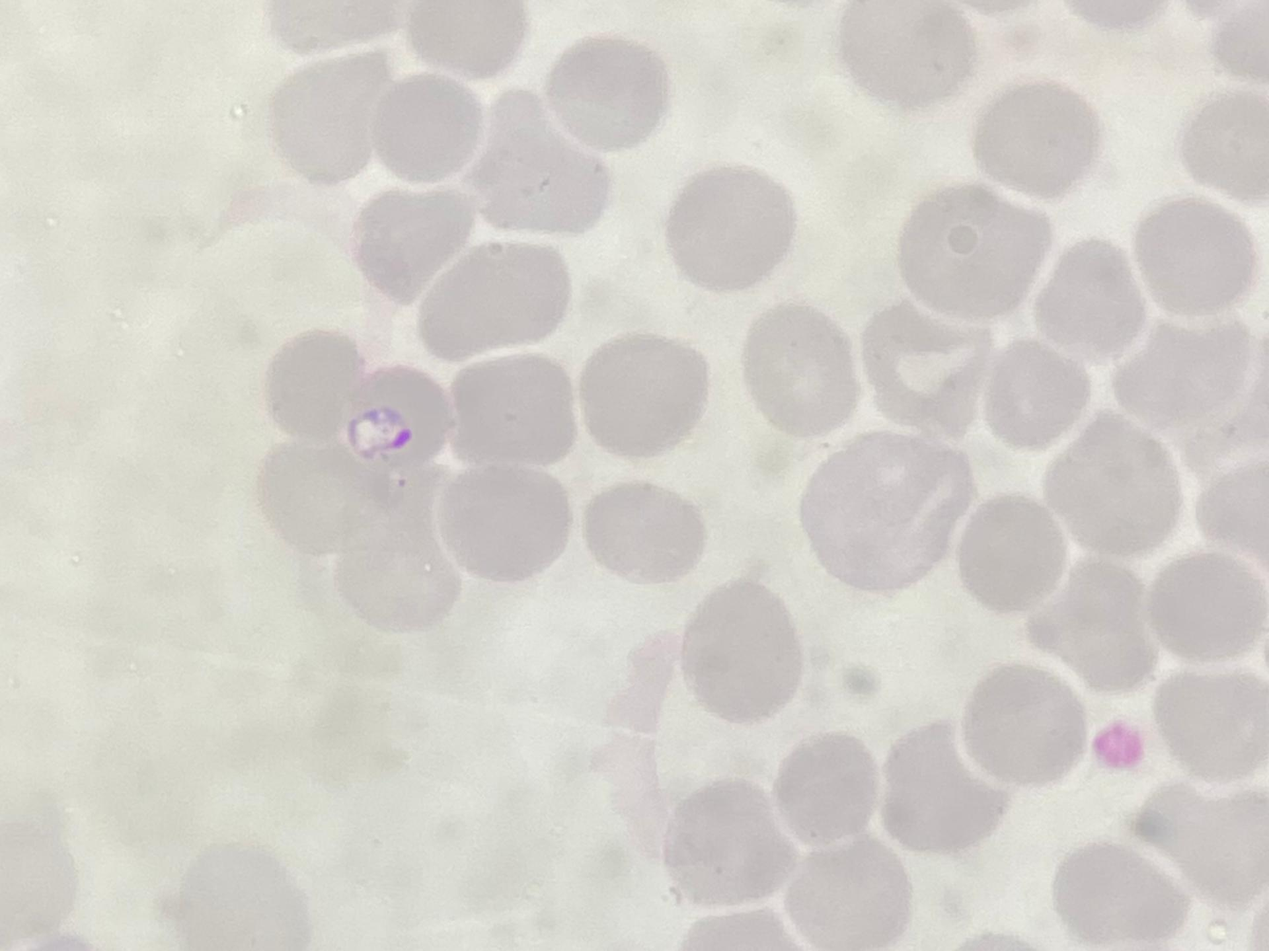Infected: (338, 360, 459, 471)
Uninfected: (796, 432, 973, 594), (894, 182, 1054, 325), (467, 94, 613, 237), (1042, 416, 1180, 562), (677, 576, 806, 726), (418, 241, 574, 364), (575, 333, 712, 464), (266, 49, 397, 185), (855, 299, 985, 436), (879, 718, 1013, 850), (660, 775, 794, 907), (1112, 317, 1250, 445), (1027, 558, 1159, 690), (435, 463, 574, 586), (1139, 780, 1269, 909), (662, 164, 794, 291), (443, 351, 580, 471), (739, 302, 861, 436), (837, 2, 983, 111), (352, 185, 482, 307), (1130, 195, 1256, 319), (958, 662, 1083, 786), (335, 513, 467, 630), (972, 79, 1101, 198), (170, 841, 310, 947), (1143, 549, 1267, 667), (551, 34, 671, 155), (1031, 237, 1148, 358), (1151, 665, 1269, 783), (366, 71, 486, 187), (1051, 839, 1186, 942), (255, 441, 373, 558), (783, 836, 909, 945), (768, 730, 881, 851), (584, 478, 706, 584), (263, 326, 371, 443), (961, 492, 1068, 608), (980, 336, 1087, 450), (1178, 91, 1269, 204), (405, 1, 526, 79), (1196, 456, 1269, 584)
